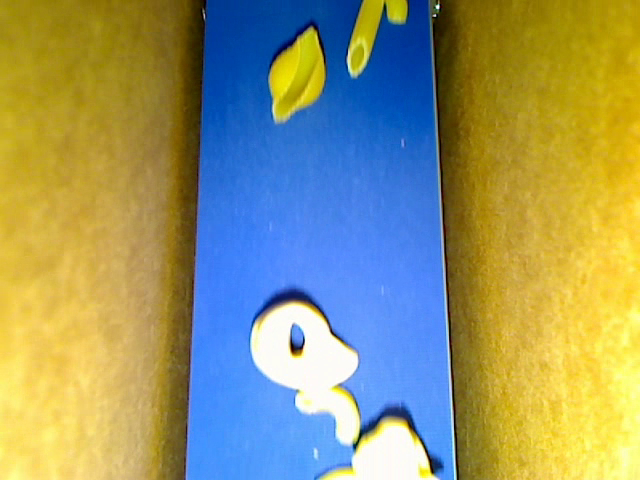elbow: (294, 384, 360, 444), (384, 1, 408, 24)
penne: (347, 1, 383, 78)
shell: (267, 27, 324, 122)
tortellini: (250, 300, 360, 387)
